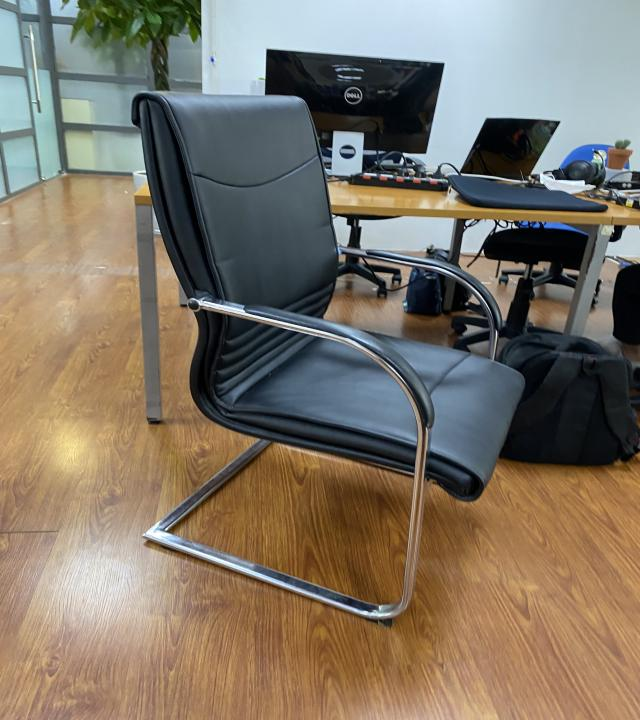SS_03: (129, 87, 526, 626)
